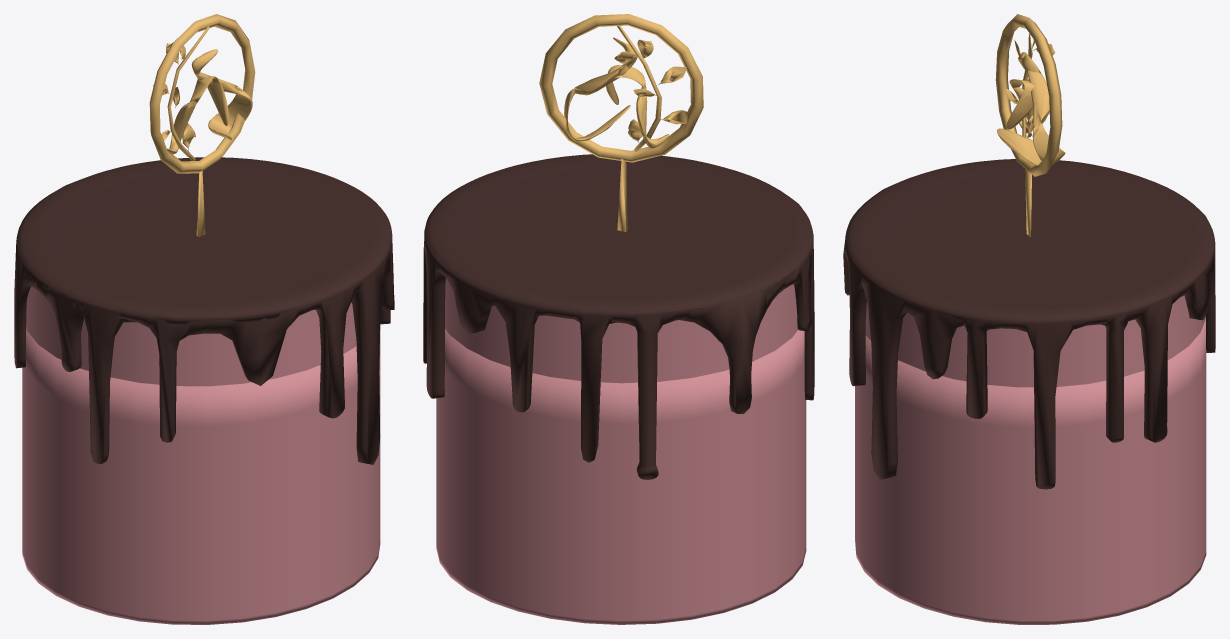
File: 1-tier-blush-ganache-ring.glb
3 renders of one model, left to right at view 1: azimuth 30°, elevation 25°; view 2: azimuth 150°, elevation 25°; view 3: azimuth 270°, elevation 25°, orthographic.
Visible parts, largest first — view 1: Cylinder.019, tHE ICING, Cylinder.017; view 2: Cylinder.019, tHE ICING, Cylinder.017; view 3: Cylinder.019, tHE ICING, Cylinder.017.
Part boxes in pixels (x1=…): Cylinder.019: x1=22, y1=286, x2=380, y2=624; tHE ICING: x1=14, y1=157, x2=394, y2=464; Cylinder.017: x1=149, y1=14, x2=255, y2=237; Cylinder.019: x1=436, y1=278, x2=806, y2=624; tHE ICING: x1=423, y1=154, x2=814, y2=479; Cylinder.017: x1=539, y1=14, x2=703, y2=232; Cylinder.019: x1=855, y1=295, x2=1206, y2=624; tHE ICING: x1=843, y1=159, x2=1215, y2=489; Cylinder.017: x1=995, y1=14, x2=1065, y2=237.
Size of the model in its own units: 2.8 by 4.23 by 2.71.
